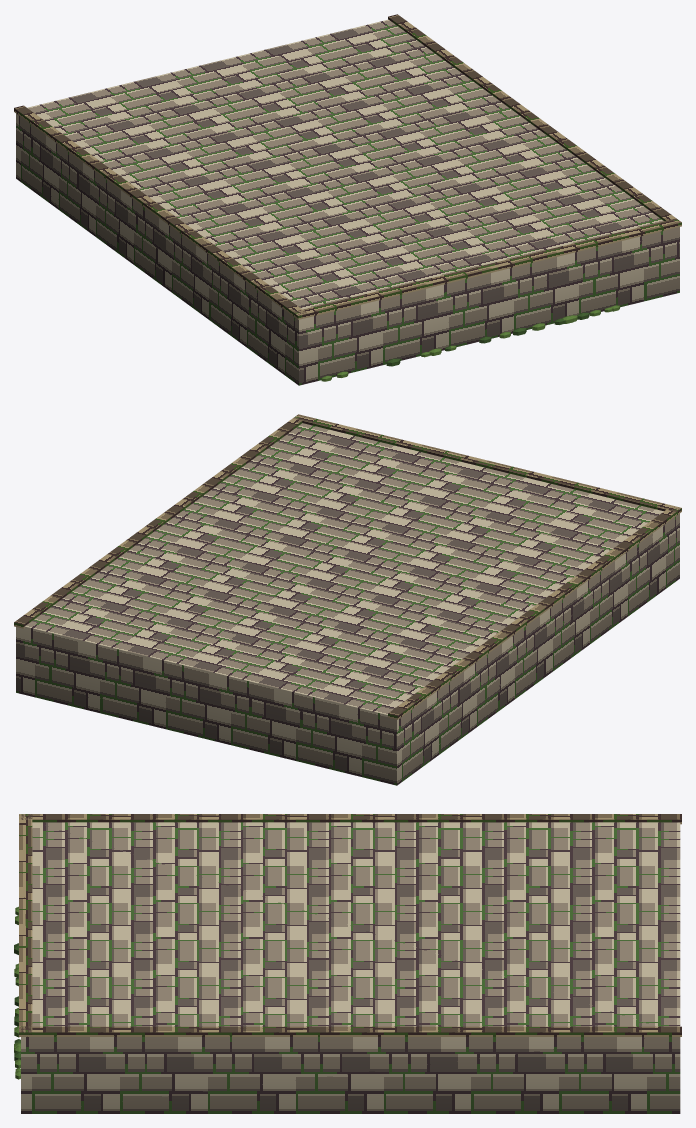
3 views of the same model, one above another, from view 1: azimuth 30°, elevation 25°; view 2: azimuth 150°, elevation 25°; view 3: azimuth 270°, elevation 25° (orthographic). The views are drawn at different scales.
Visible parts, largest first — view 1: scene_c3; view 2: scene_c3; view 3: scene_c3.
Boxes of the visible parts, left/top/right/bottom form: scene_c3: left=14, top=14, right=681, bottom=385; scene_c3: left=14, top=414, right=681, bottom=785; scene_c3: left=14, top=814, right=681, bottom=1113.
Bounding box in the file's own units: 14.1 × 2.57 × 18.24.
2 materials, 1 textured.
